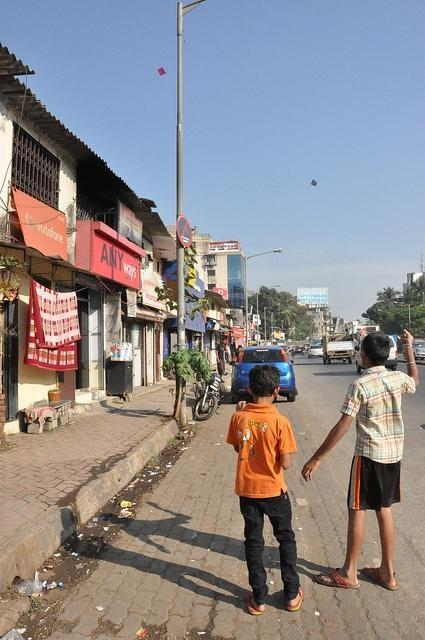car: (228, 346, 299, 405), (402, 342, 425, 361), (308, 345, 324, 358), (295, 346, 303, 354), (301, 344, 308, 352)
motorcycle: (192, 369, 231, 422)
truck: (320, 332, 355, 366)
